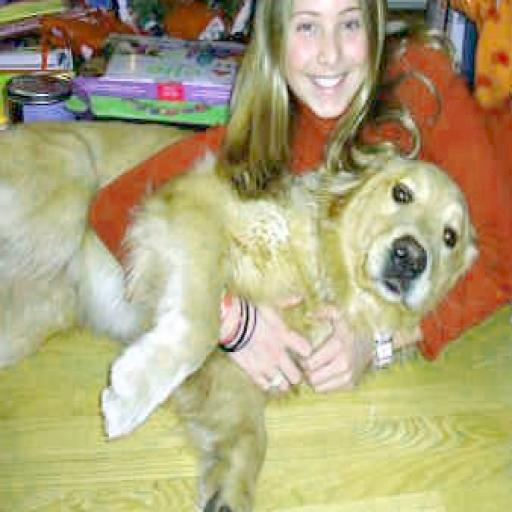dog_face: (352, 146, 474, 321)
